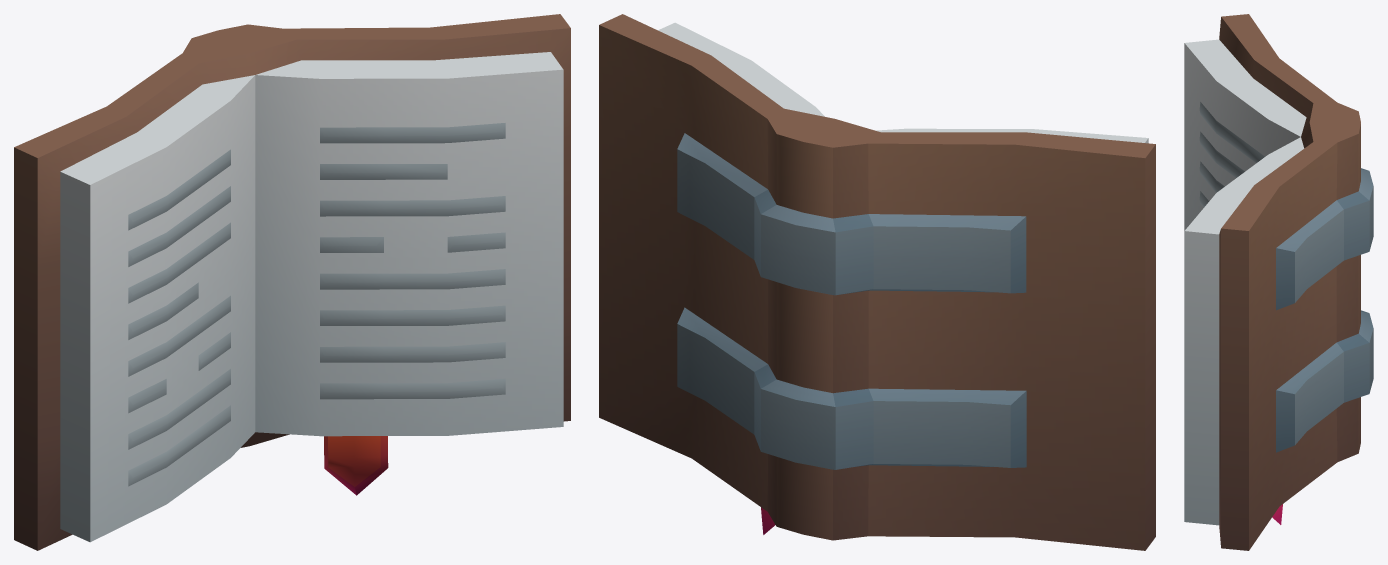
File: journal_open.glb
The picture shows the model from 3 angles, left to right: view 1: azimuth 30°, elevation 25°; view 2: azimuth 150°, elevation 25°; view 3: azimuth 270°, elevation 25°; orthographic projection. The views are drawn at different scales.
Parts seen in each view (by area): view 1: journal_open; view 2: journal_open; view 3: journal_open.
Part boxes in pixels (x1=…): journal_open: x1=14, y1=14, x2=570, y2=550; journal_open: x1=599, y1=14, x2=1155, y2=550; journal_open: x1=1184, y1=14, x2=1373, y2=550.
Size of the model in its own units: 0.9386 by 0.7407 by 0.3454.
Materials: 1 (1 with a texture image).
